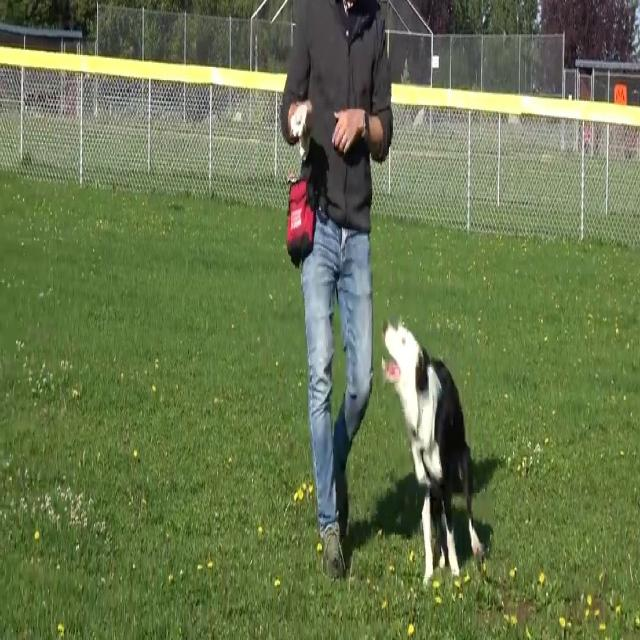Unleashed_Dog: (309, 319, 483, 586)
